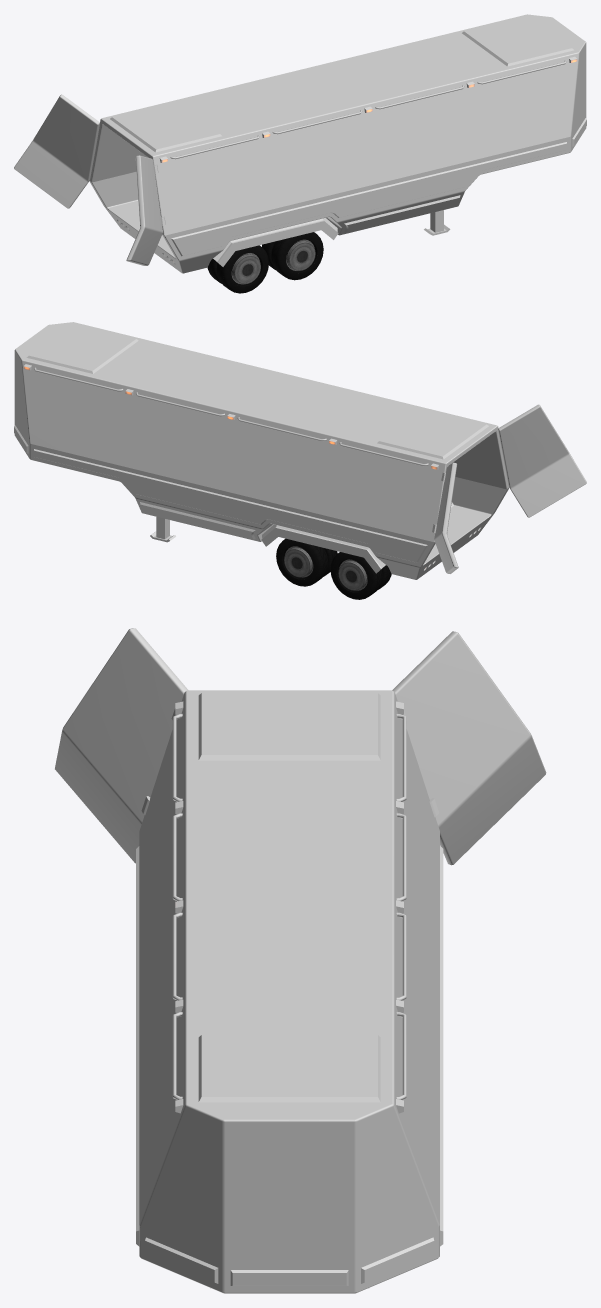
Rendered from SM_CivilianSemi_Trailer_Only_Open.fbx.
The picture shows the model from 3 angles, top to bottom: view 1: azimuth 30°, elevation 25°; view 2: azimuth 150°, elevation 25°; view 3: azimuth 270°, elevation 25°; orthographic projection. The views are drawn at different scales.
Parts seen in each view (by area): view 1: Cube.001, Cube.006, Left_door.005, Left_door.006, Rear_wheels.009, Rear_wheels.011, Hull.003, BézierCurve.002, Cube.004; view 2: Cube.001, Cube.006, Left_door.006, Rear_wheels.008, Rear_wheels.010, Hull.003, Left_door.005, BézierCurve.002, Cube.004; view 3: Cube.001, Cube.006, Left_door.005, Left_door.006, BézierCurve.002.
Part boxes in pixels (box(x1,y1,x2,y2)): Cube.001: box(89, 14, 586, 273); Cube.006: box(110, 15, 586, 256); Left_door.005: box(14, 94, 99, 208); Left_door.006: box(126, 155, 165, 265); Rear_wheels.009: box(262, 232, 323, 280); Rear_wheels.011: box(207, 245, 268, 293); Hull.003: box(213, 218, 338, 266); BézierCurve.002: box(170, 60, 566, 159); Cube.004: box(424, 210, 450, 235); Cube.001: box(14, 322, 509, 579); Cube.006: box(14, 323, 488, 562); Left_door.006: box(498, 404, 586, 517); Rear_wheels.008: box(276, 538, 337, 586); Rear_wheels.010: box(330, 552, 391, 599); Hull.003: box(261, 524, 385, 573); Left_door.005: box(432, 462, 458, 573); BézierCurve.002: box(34, 367, 428, 466); Cube.004: box(150, 517, 175, 542); Cube.001: box(139, 690, 439, 1293); Cube.006: box(136, 693, 443, 1285); Left_door.005: box(392, 631, 546, 865); Left_door.006: box(55, 628, 188, 863); BézierCurve.002: box(172, 713, 406, 1099).
Bounding box in the file's own units: 1058 × 450 × 345.
Materials: 2 (1 with a texture image).
